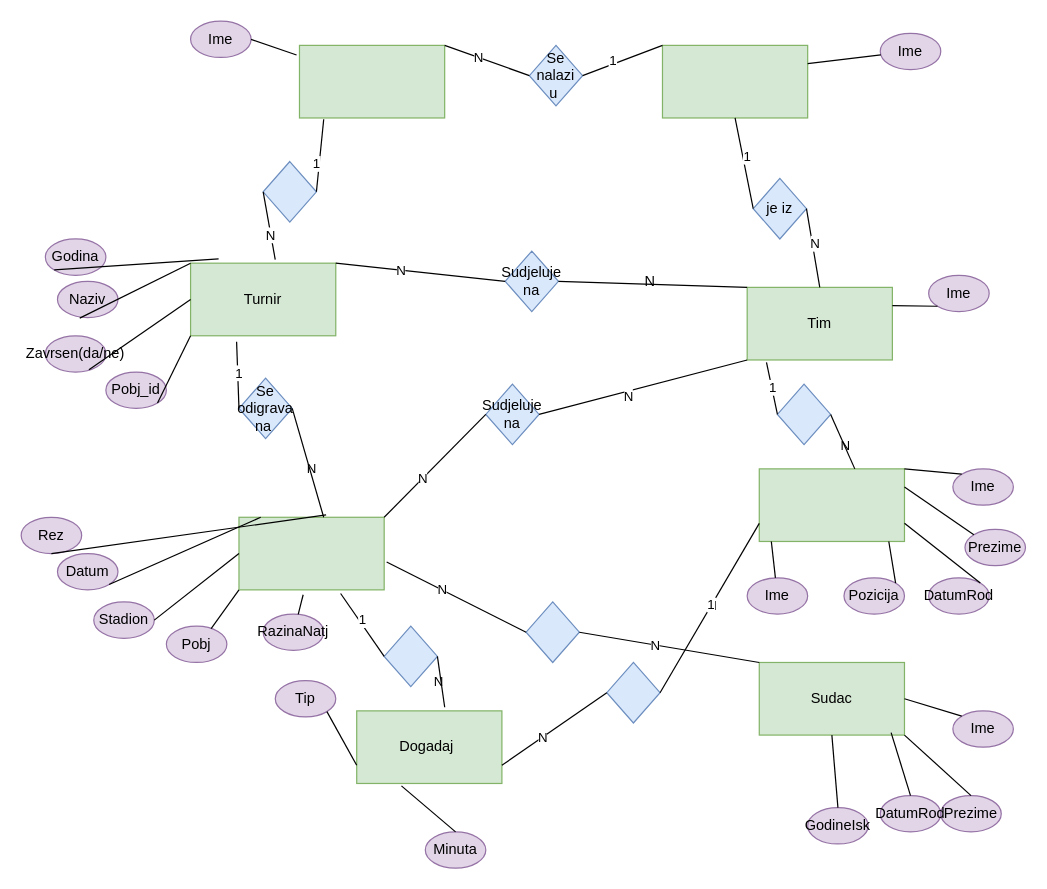
Image size: 1047x889. Some labels were removed from this diagram. The shapes that lost their labels are listed below. From the top down, each one's box as (x1, y1, x2, y2) in pixels, then its label:
(298, 44, 445, 118): Grad
(661, 44, 808, 118): Drzava
(262, 160, 316, 222): Se odrzava u
(776, 383, 831, 445): Igra za
(758, 468, 904, 541): Igrac
(238, 516, 384, 590): Utakmica
(525, 601, 579, 662): Sudi na
(383, 625, 437, 687): Se dogodio na
(606, 661, 660, 723): Je ukljucen u
